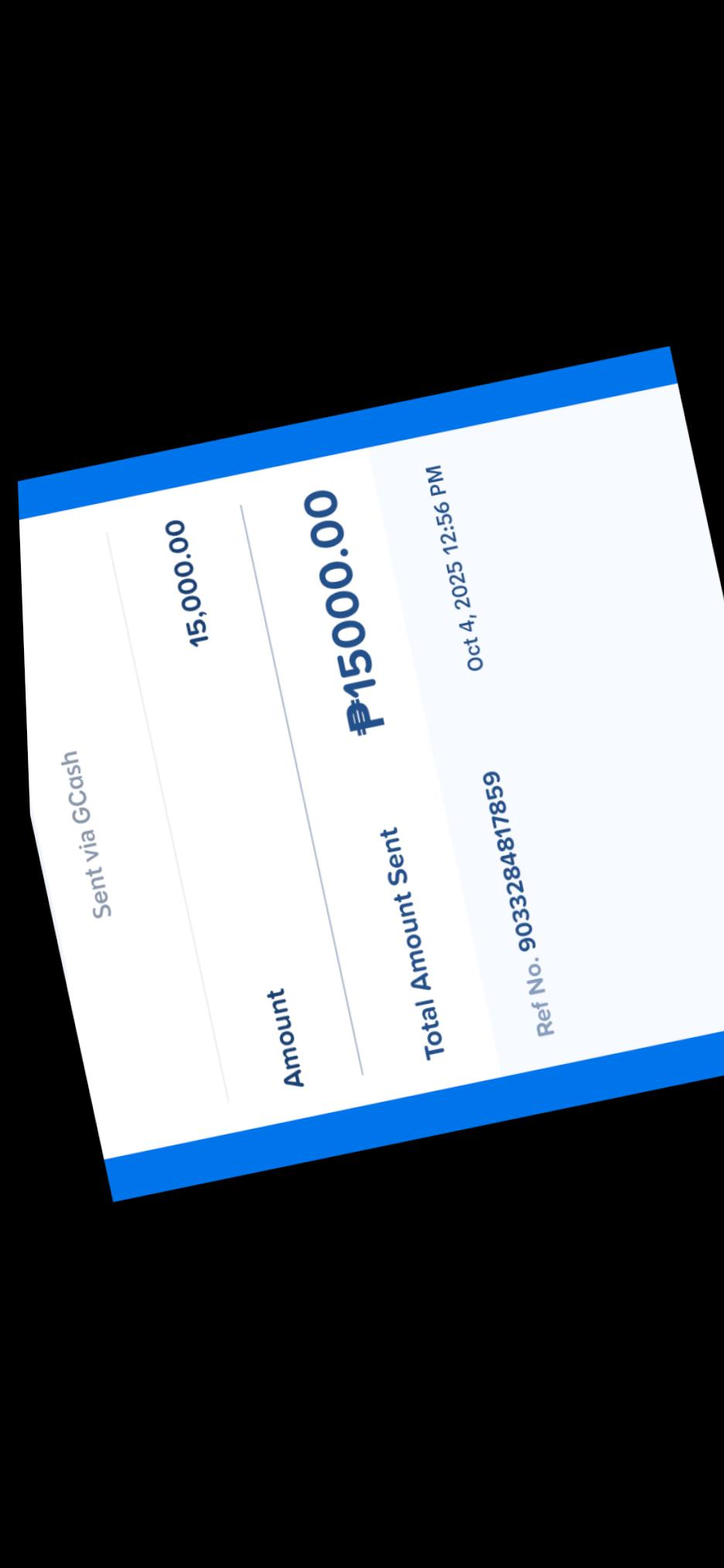Receipt: (18, 345, 724, 1193)
